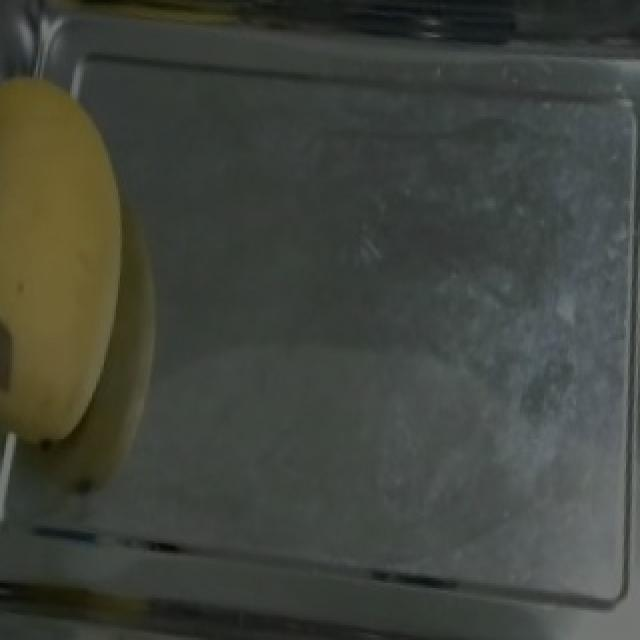fruit: (0, 57, 176, 466)
